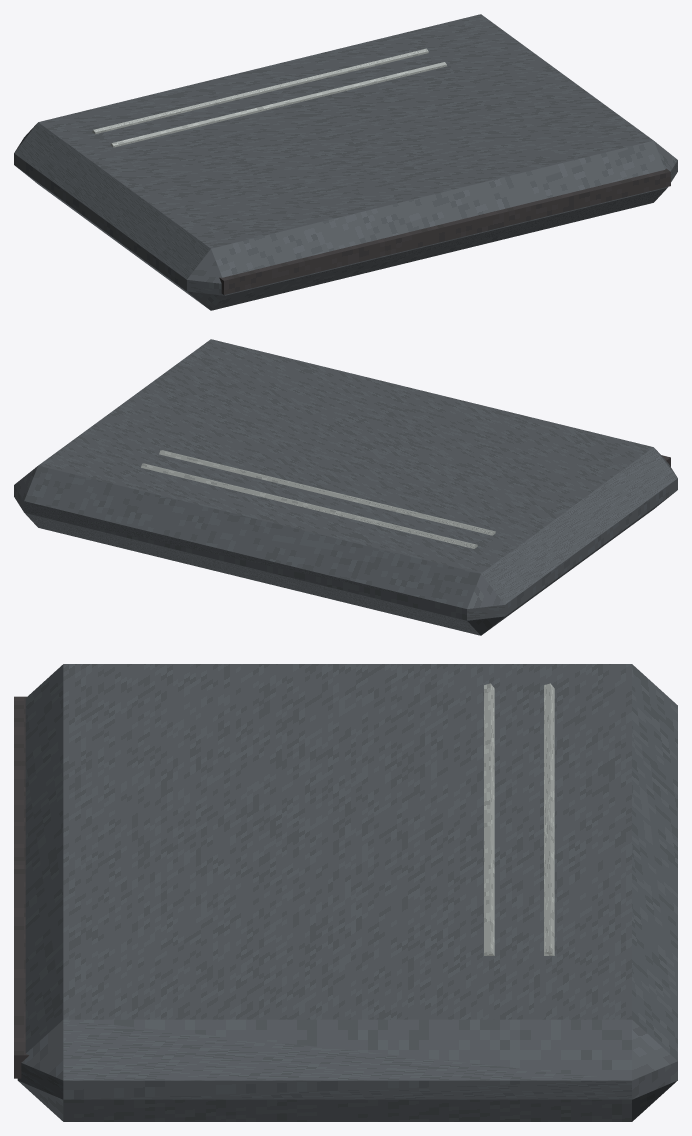
The model's file is wallet_leather.glb.
The picture shows the model from 3 angles, top to bottom: view 1: azimuth 30°, elevation 25°; view 2: azimuth 150°, elevation 25°; view 3: azimuth 270°, elevation 25°; orthographic projection. The views are drawn at different scales.
Visible parts, largest first — view 1: block_card or folded wallet, block_wallet folded edge, block_topstitch 0 (×2); view 2: block_card or folded wallet, block_topstitch 0 (×2); view 3: block_card or folded wallet, block_topstitch 0 (×2), block_wallet folded edge.
Boxes of the visible parts, x1=… form: block_card or folded wallet: x1=14, y1=14, x2=677, y2=310; block_wallet folded edge: x1=219, y1=168, x2=670, y2=294; block_topstitch 0 (×2): x1=92, y1=48, x2=446, y2=147; block_card or folded wallet: x1=14, y1=339, x2=677, y2=635; block_topstitch 0 (×2): x1=141, y1=450, x2=495, y2=548; block_card or folded wallet: x1=17, y1=664, x2=677, y2=1121; block_topstitch 0 (×2): x1=484, y1=683, x2=554, y2=955; block_wallet folded edge: x1=14, y1=696, x2=28, y2=1078.
Bounding box in the file's own units: 0.1667 × 0.0211 × 0.1186.
Materials: 1 (1 with a texture image).
